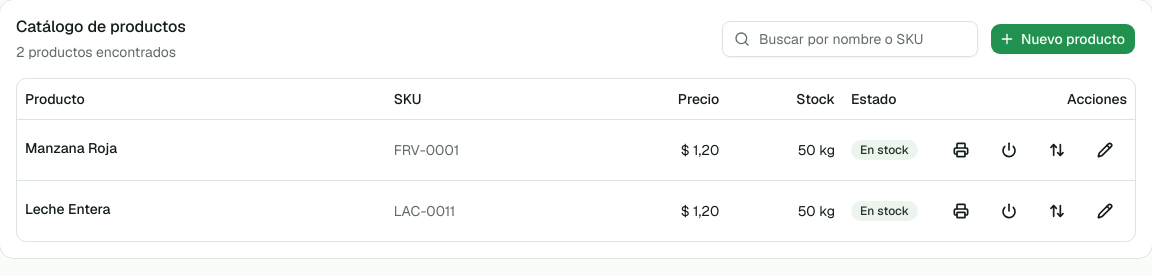
ProductsTable — barcode scan clear › supports consecutive scans: first Enter clears, second scan also clears
Expected: the text "Manzana Roja" is shown, x1=25 y1=138 x2=117 y2=158
// First scan
Type "FRV-0001" into the field labelled "Buscar por nombre o SKU" at (850, 39), box x1=722 y1=21 x2=978 y2=57
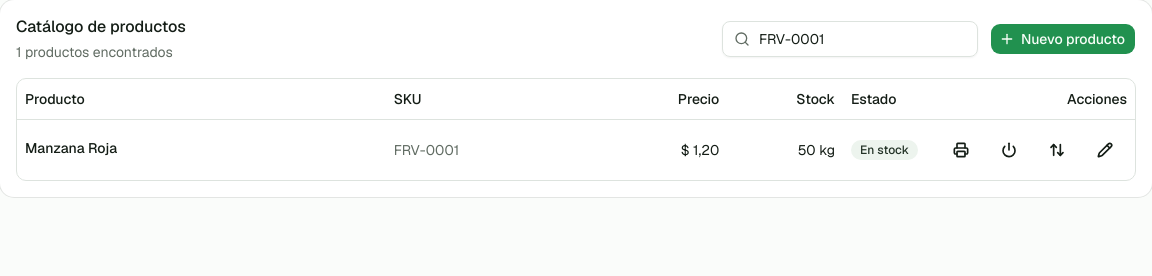
Expected: the text "Manzana Roja" is shown, x1=25 y1=138 x2=117 y2=158
Press Enter in the field named "Buscar por nombre o SKU", box x1=722 y1=21 x2=978 y2=57
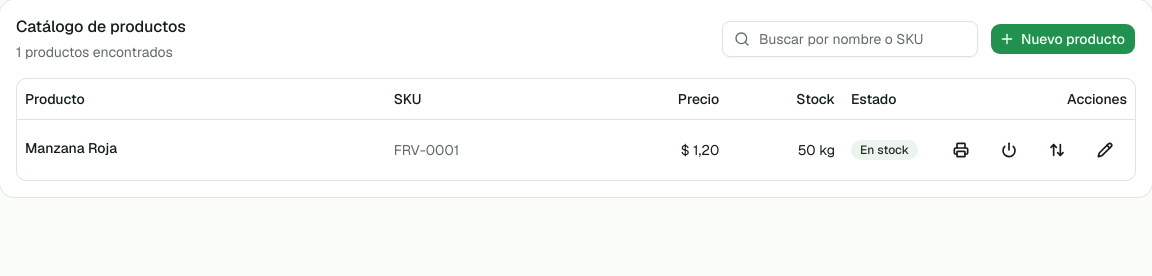
Expected: the text "Manzana Roja" is shown, x1=25 y1=138 x2=117 y2=158
Now the field labelled "Buscar por nombre o SKU" is empty
// Second scan — type a different barcode
Type "LAC-0011" into the field labelled "Buscar por nombre o SKU" at (850, 39), box x1=722 y1=21 x2=978 y2=57
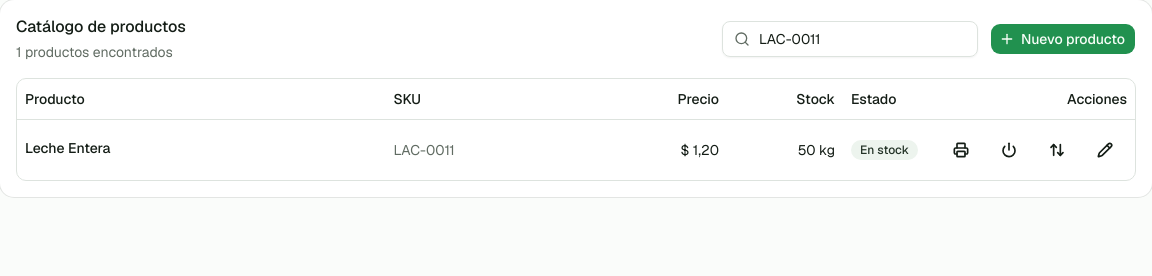
Now the text "Leche Entera" is shown, box x1=25 y1=138 x2=110 y2=158
Press Enter in the field named "Buscar por nombre o SKU", box x1=722 y1=21 x2=978 y2=57
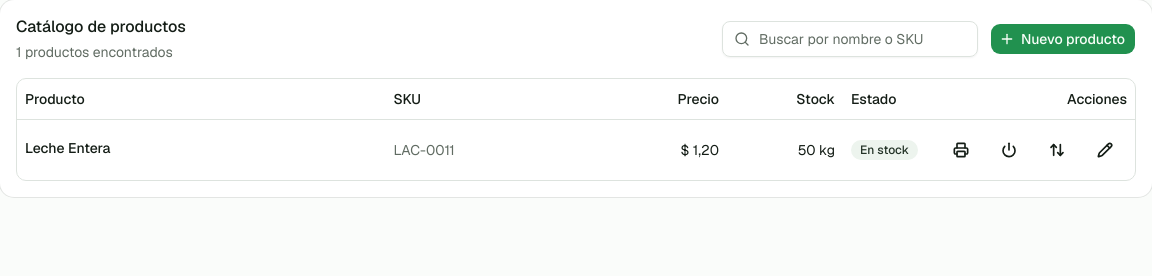
Now the text "Leche Entera" is shown, box x1=25 y1=138 x2=110 y2=158
Now the field labelled "Buscar por nombre o SKU" is empty, box x1=722 y1=21 x2=978 y2=57
